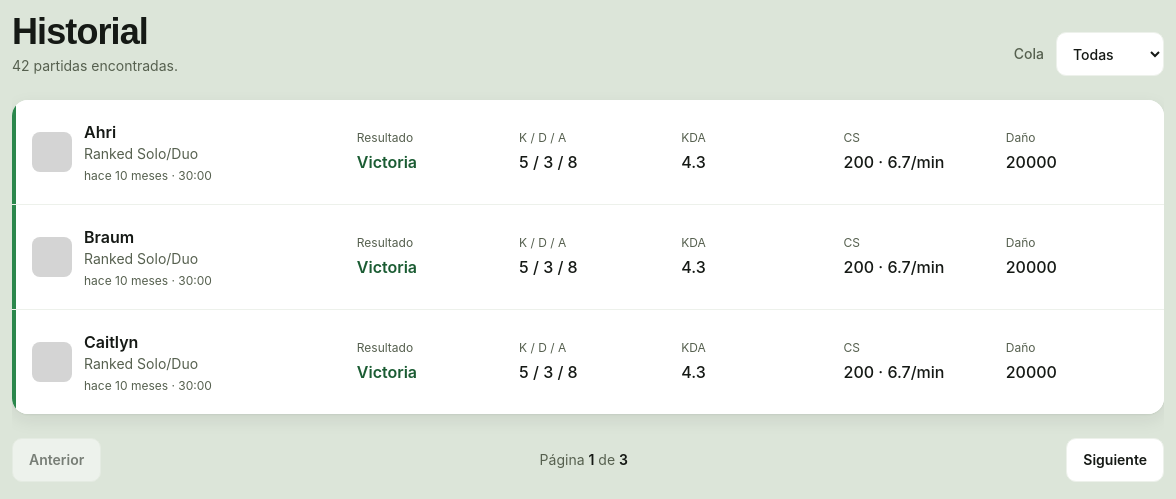
Test case: MatchesView › pagination › disables Siguiente on the last page
Click the button "Siguiente" at (1115, 460), box [1066,438,1164,482]
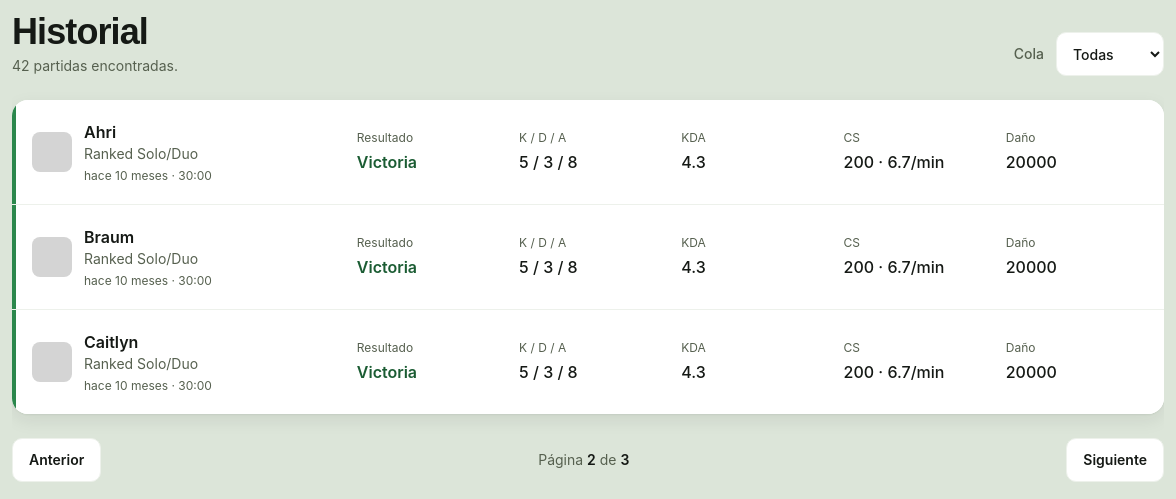
Click the button "Siguiente" at (1115, 460), box [1066,438,1164,482]
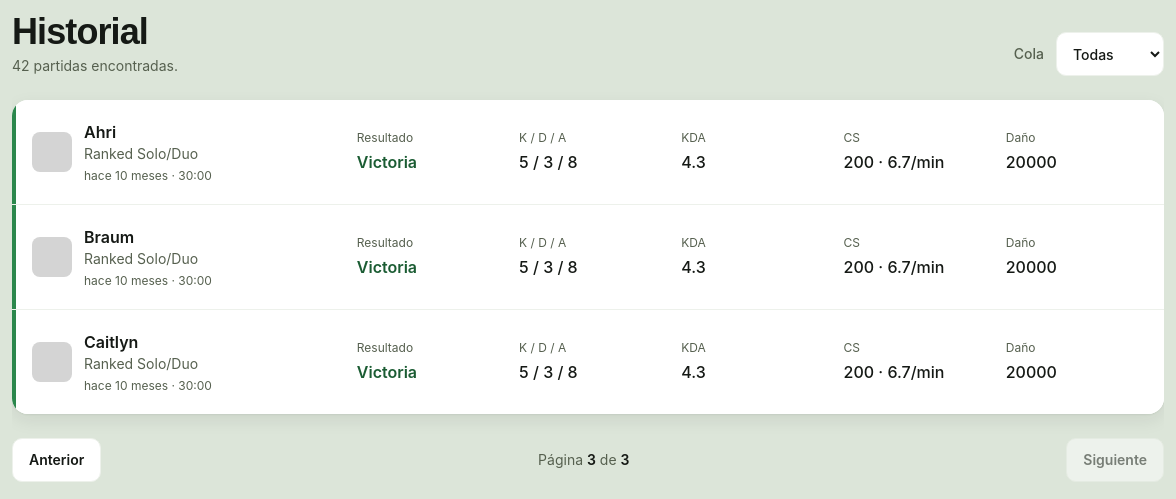
Now the button "Anterior" is enabled, box [12,438,101,482]
Now the navigation bar shows "Página 3 de 3", box [12,438,1164,482]
Now the button "Siguiente" is disabled, box [1066,438,1164,482]
